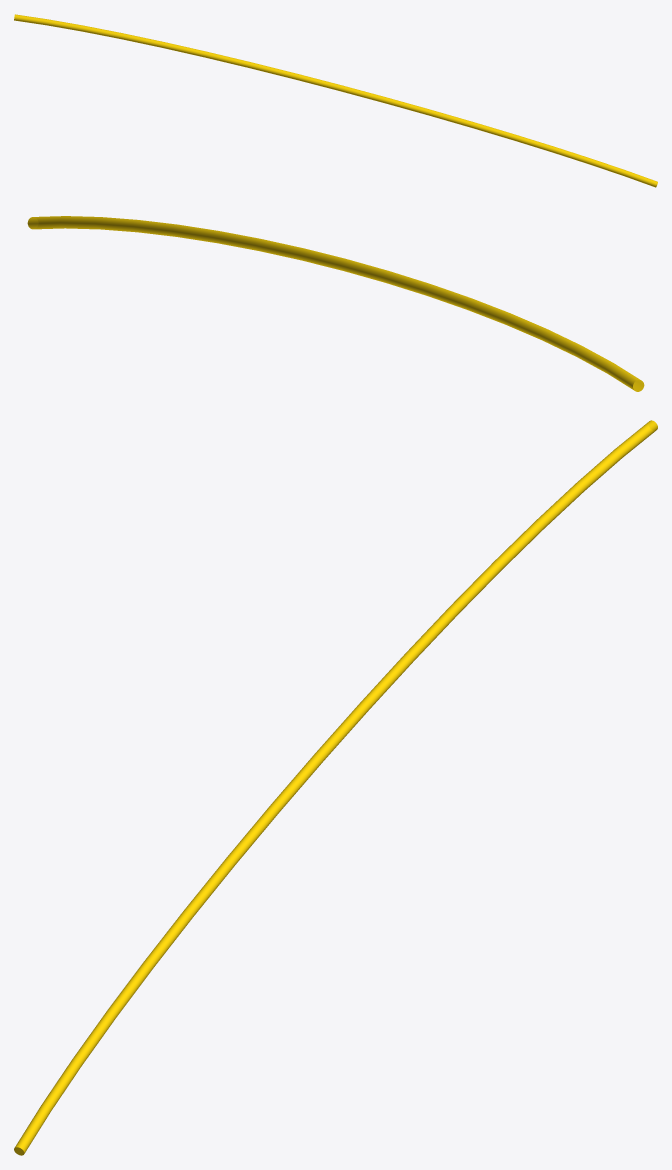
Rendered from Event_420604493_track_3.fbx.
3 renders of one model, top to bottom at view 1: azimuth 30°, elevation 25°; view 2: azimuth 150°, elevation 25°; view 3: azimuth 270°, elevation 25°, orthographic. The views are drawn at different scales.
Parts seen in each view (by area): view 1: Model; view 2: Model; view 3: Model.
Boxes of the visible parts, x1,y1,x2,y2 form: Model: (14, 14, 657, 187); Model: (27, 216, 644, 391); Model: (14, 420, 657, 1155).
Size of the model in its own units: 3.52 by 1.16 by 2.21.
